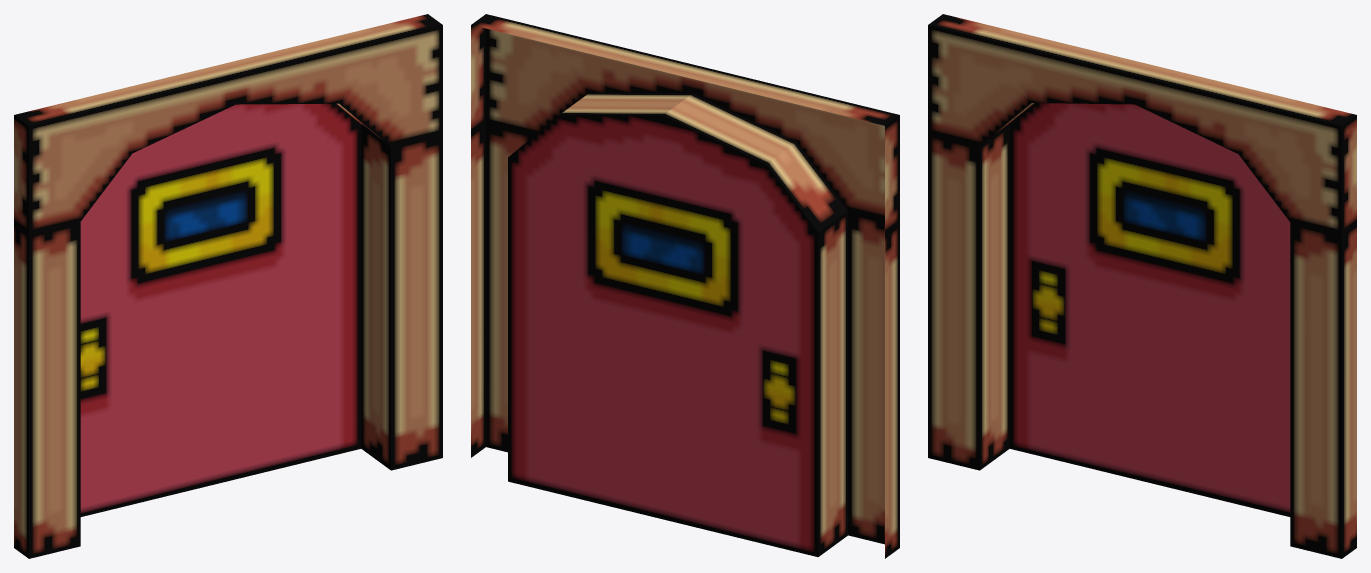
File: arch_door_woodWindow.FBX
3 views of the same model, side by side, from view 1: azimuth 30°, elevation 25°; view 2: azimuth 150°, elevation 25°; view 3: azimuth 330°, elevation 25° (orthographic).
Parts seen in each view (by area): view 1: arch_door_woodWindow; view 2: arch_door_woodWindow; view 3: arch_door_woodWindow.
Part boxes in pixels (<box>): arch_door_woodWindow: <box>14,14,442,558</box>; arch_door_woodWindow: <box>471,14,899,558</box>; arch_door_woodWindow: <box>928,14,1356,558</box>.
Bounding box in the file's own units: 4 × 4 × 0.5.
1 material, 1 textured.
